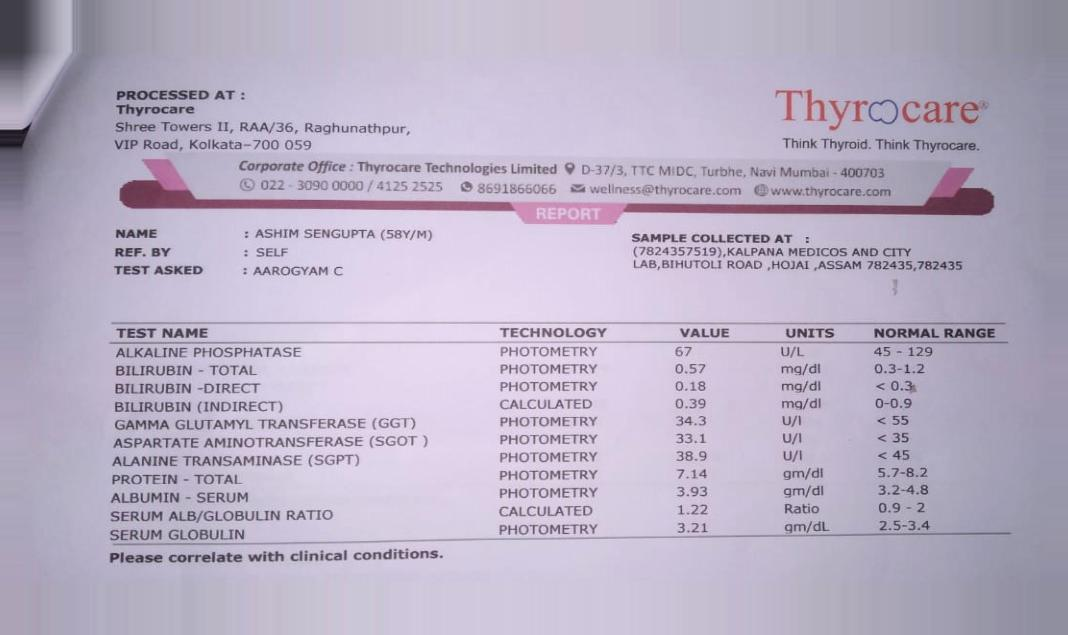Reference Range: (865, 340, 941, 537)
Test Name: (101, 341, 434, 546)
Units: (771, 340, 838, 538)
Value: (666, 340, 724, 539)
